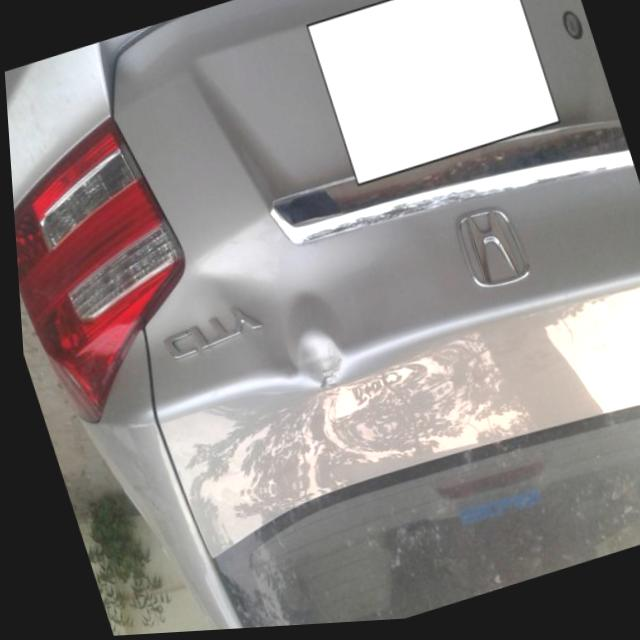Dent: (201, 208, 369, 392)
Paint-Crack: (308, 345, 349, 392)
